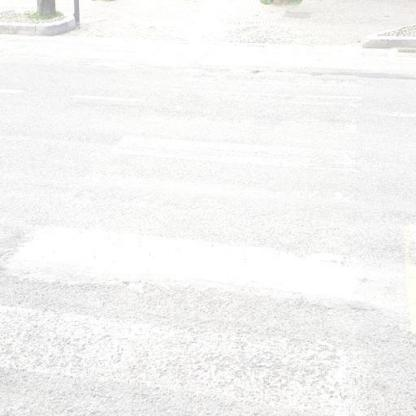crosswalk: (8, 161, 370, 309)
